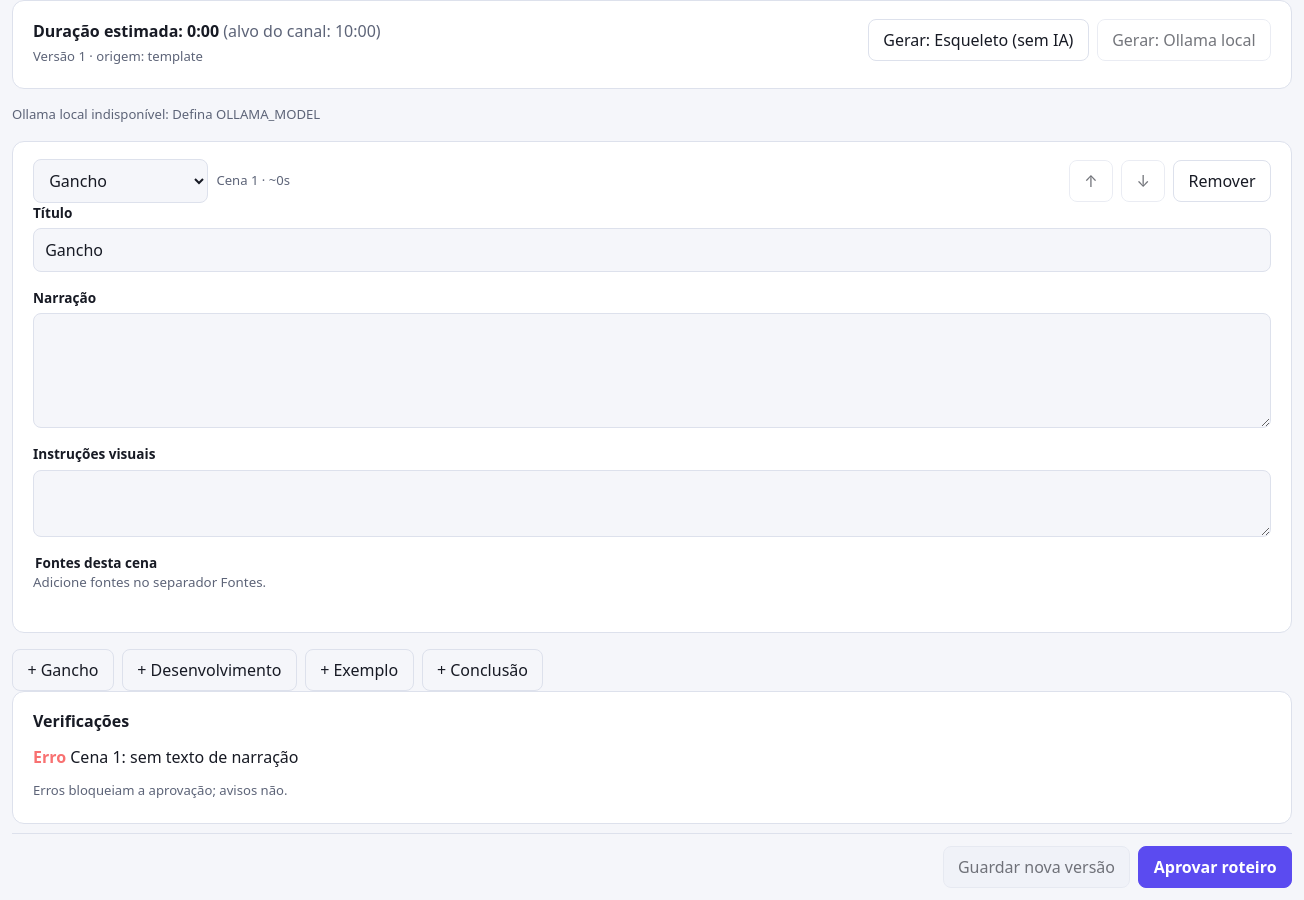
Test: ScriptEditor › aprovação recusada pelo servidor mostra os erros bloqueantes
This screenshot has width=1304, height=900.
Click the button "Aprovar roteiro" at {"x": 1215, "y": 867}, box top-left (1138, 846), bottom-right (1292, 888)
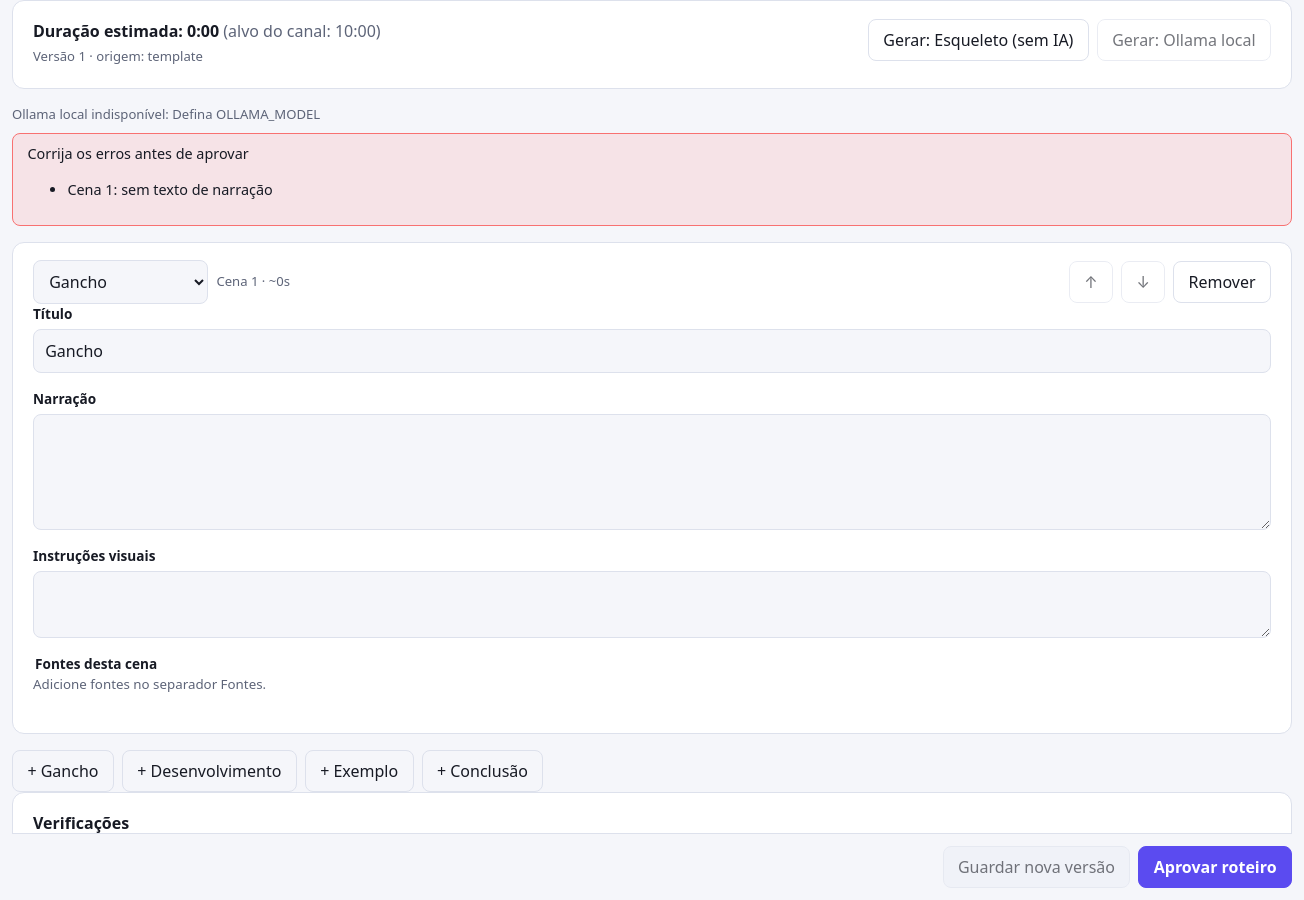
expect the message shows "Corrija os erros antes de aprovar": met, box top-left (27, 144), bottom-right (249, 163)
expect the message shows "Cena 1: sem texto de narração": met, box top-left (67, 180), bottom-right (273, 199)
